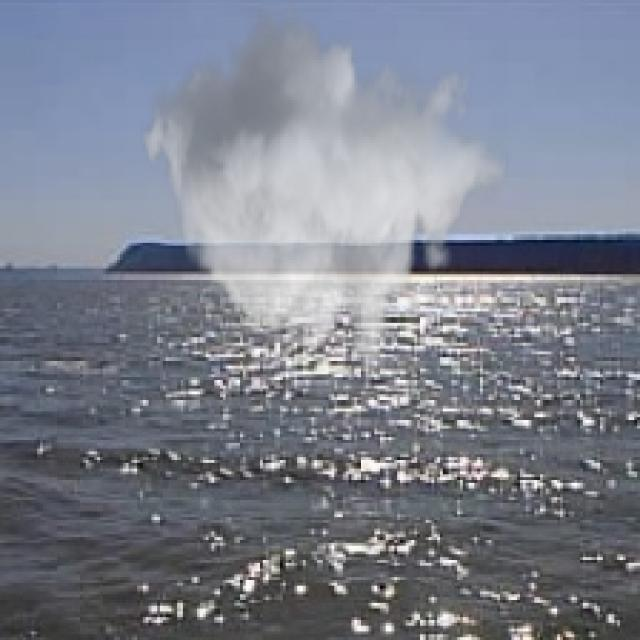smoke: (140, 0, 509, 377)
